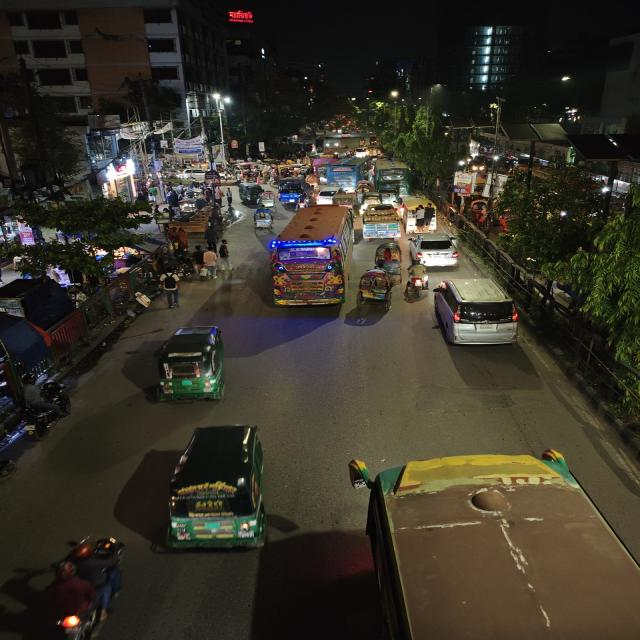bus: (342, 456, 636, 624), (266, 205, 358, 312), (324, 160, 364, 190), (370, 158, 406, 190)
car: (430, 275, 526, 353), (407, 231, 462, 270), (275, 178, 306, 204), (313, 189, 337, 205)
cng: (158, 422, 280, 558), (148, 323, 234, 406), (238, 184, 266, 206)
human_hauler: (402, 194, 441, 233)
motorcycle: (0, 530, 136, 640), (17, 380, 75, 442), (401, 263, 430, 299)
pedestrian: (156, 274, 183, 308), (190, 243, 209, 278), (216, 240, 233, 272), (202, 247, 218, 280)
pickup_van: (361, 203, 403, 241)
rickshaw: (356, 266, 394, 310), (372, 240, 402, 273), (250, 206, 276, 231), (332, 191, 356, 207), (361, 192, 382, 209), (258, 190, 276, 208), (356, 180, 374, 194)
